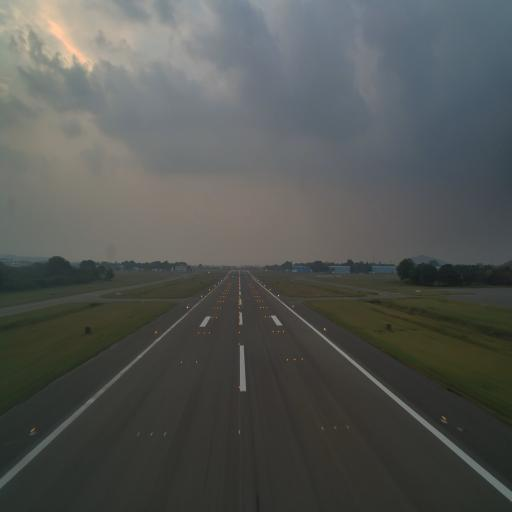off: (188, 358, 191, 366), (238, 357, 241, 364)
on: (28, 424, 38, 440), (344, 420, 352, 434), (440, 411, 448, 422), (319, 424, 326, 436), (332, 420, 338, 433), (148, 428, 154, 439), (162, 430, 168, 441), (237, 426, 242, 438), (137, 428, 141, 438), (238, 382, 242, 392), (286, 356, 290, 364), (293, 356, 297, 364), (195, 358, 198, 366), (301, 356, 304, 363), (180, 359, 184, 364)
